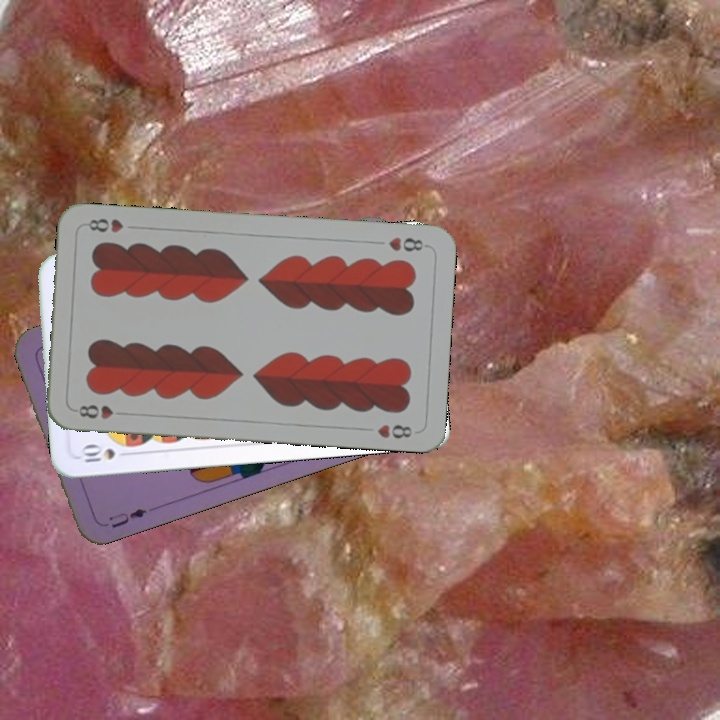EU: (104, 504, 150, 531)
H8: (74, 400, 129, 422), (384, 233, 430, 254)
S10: (75, 441, 134, 466)
